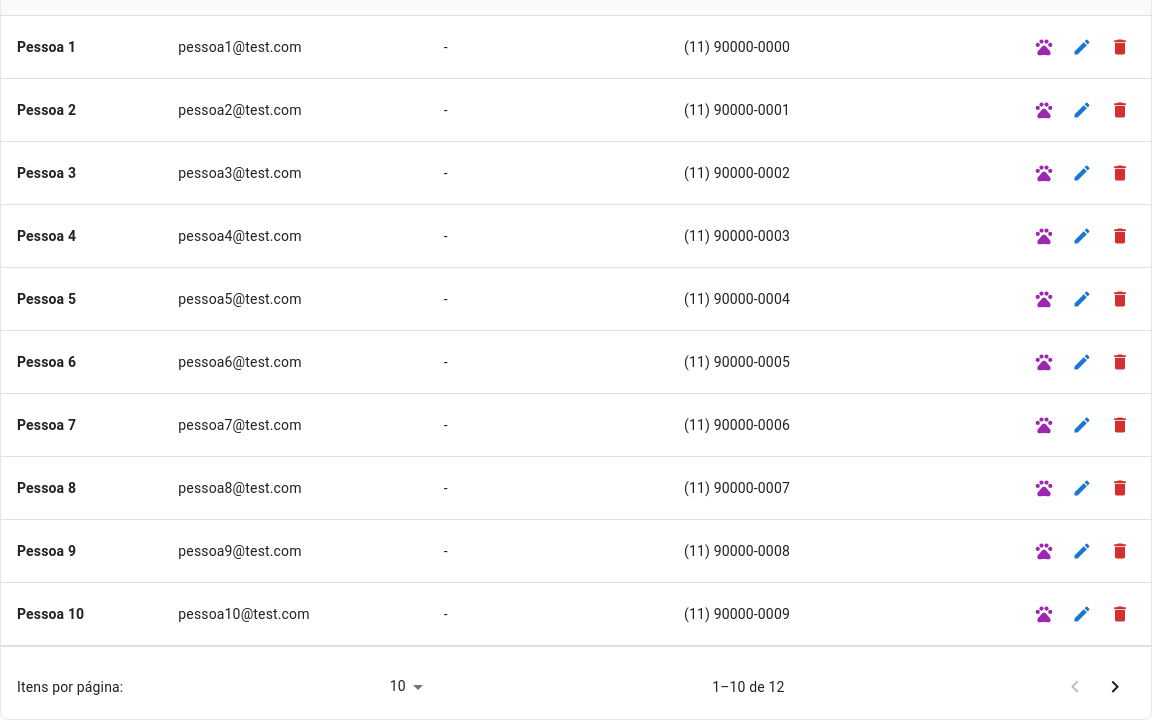
Test: PeoplePage › paginates people according to rowsPerPage and page changes
The width and height of the screenshot is (1152, 720).
(page scrolled)
Expected: the text "Pessoa 1" is shown, [1, 15, 162, 78]
Expected: the text "Pessoa 10" is shown, [1, 582, 162, 645]
Click the button named "Go to next page".
click(1115, 686)  # box [1095, 666, 1135, 706]
(page scrolled)
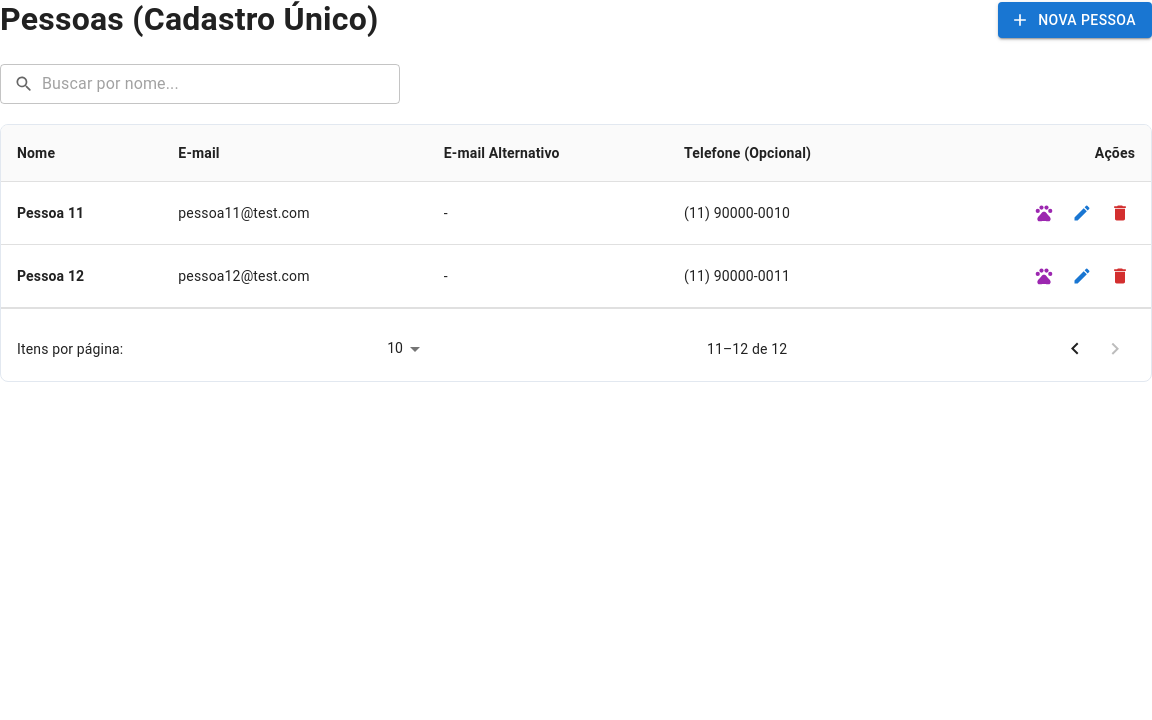
Now the text "Pessoa 11" is shown, box [1, 181, 162, 244]
Now the text "Pessoa 12" is shown, box [1, 244, 162, 307]
